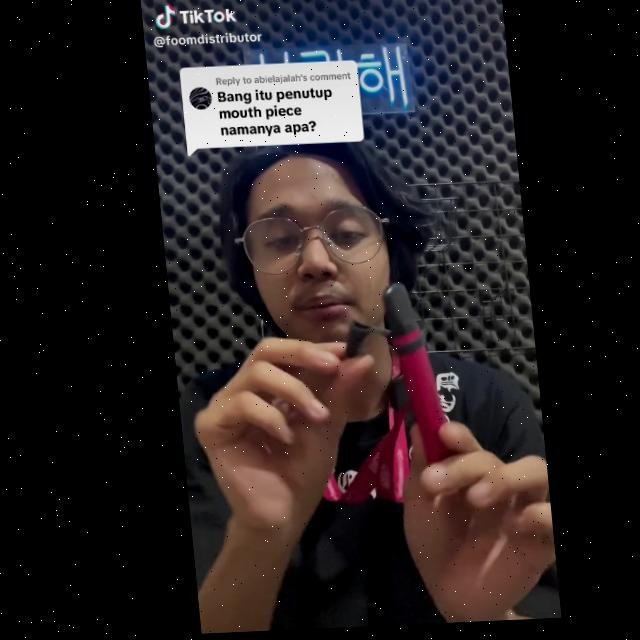vape: (377, 283, 448, 465)
